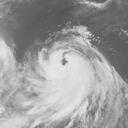cyclone: (30, 26, 108, 115)
